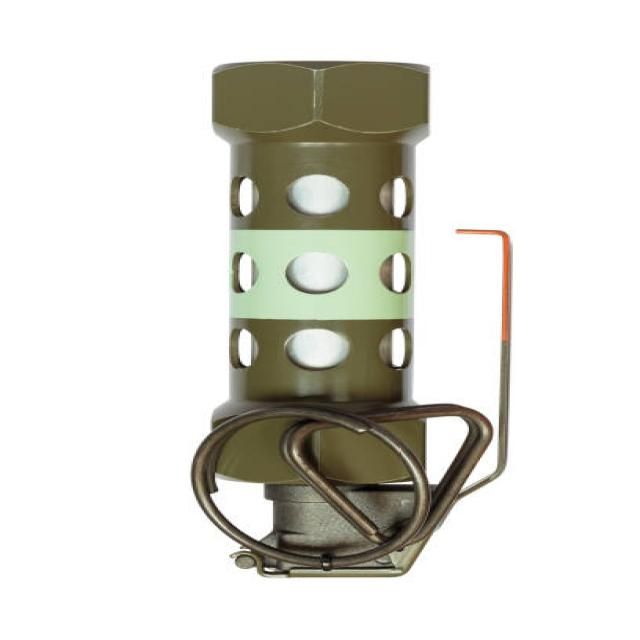grenade: (177, 40, 542, 596)
